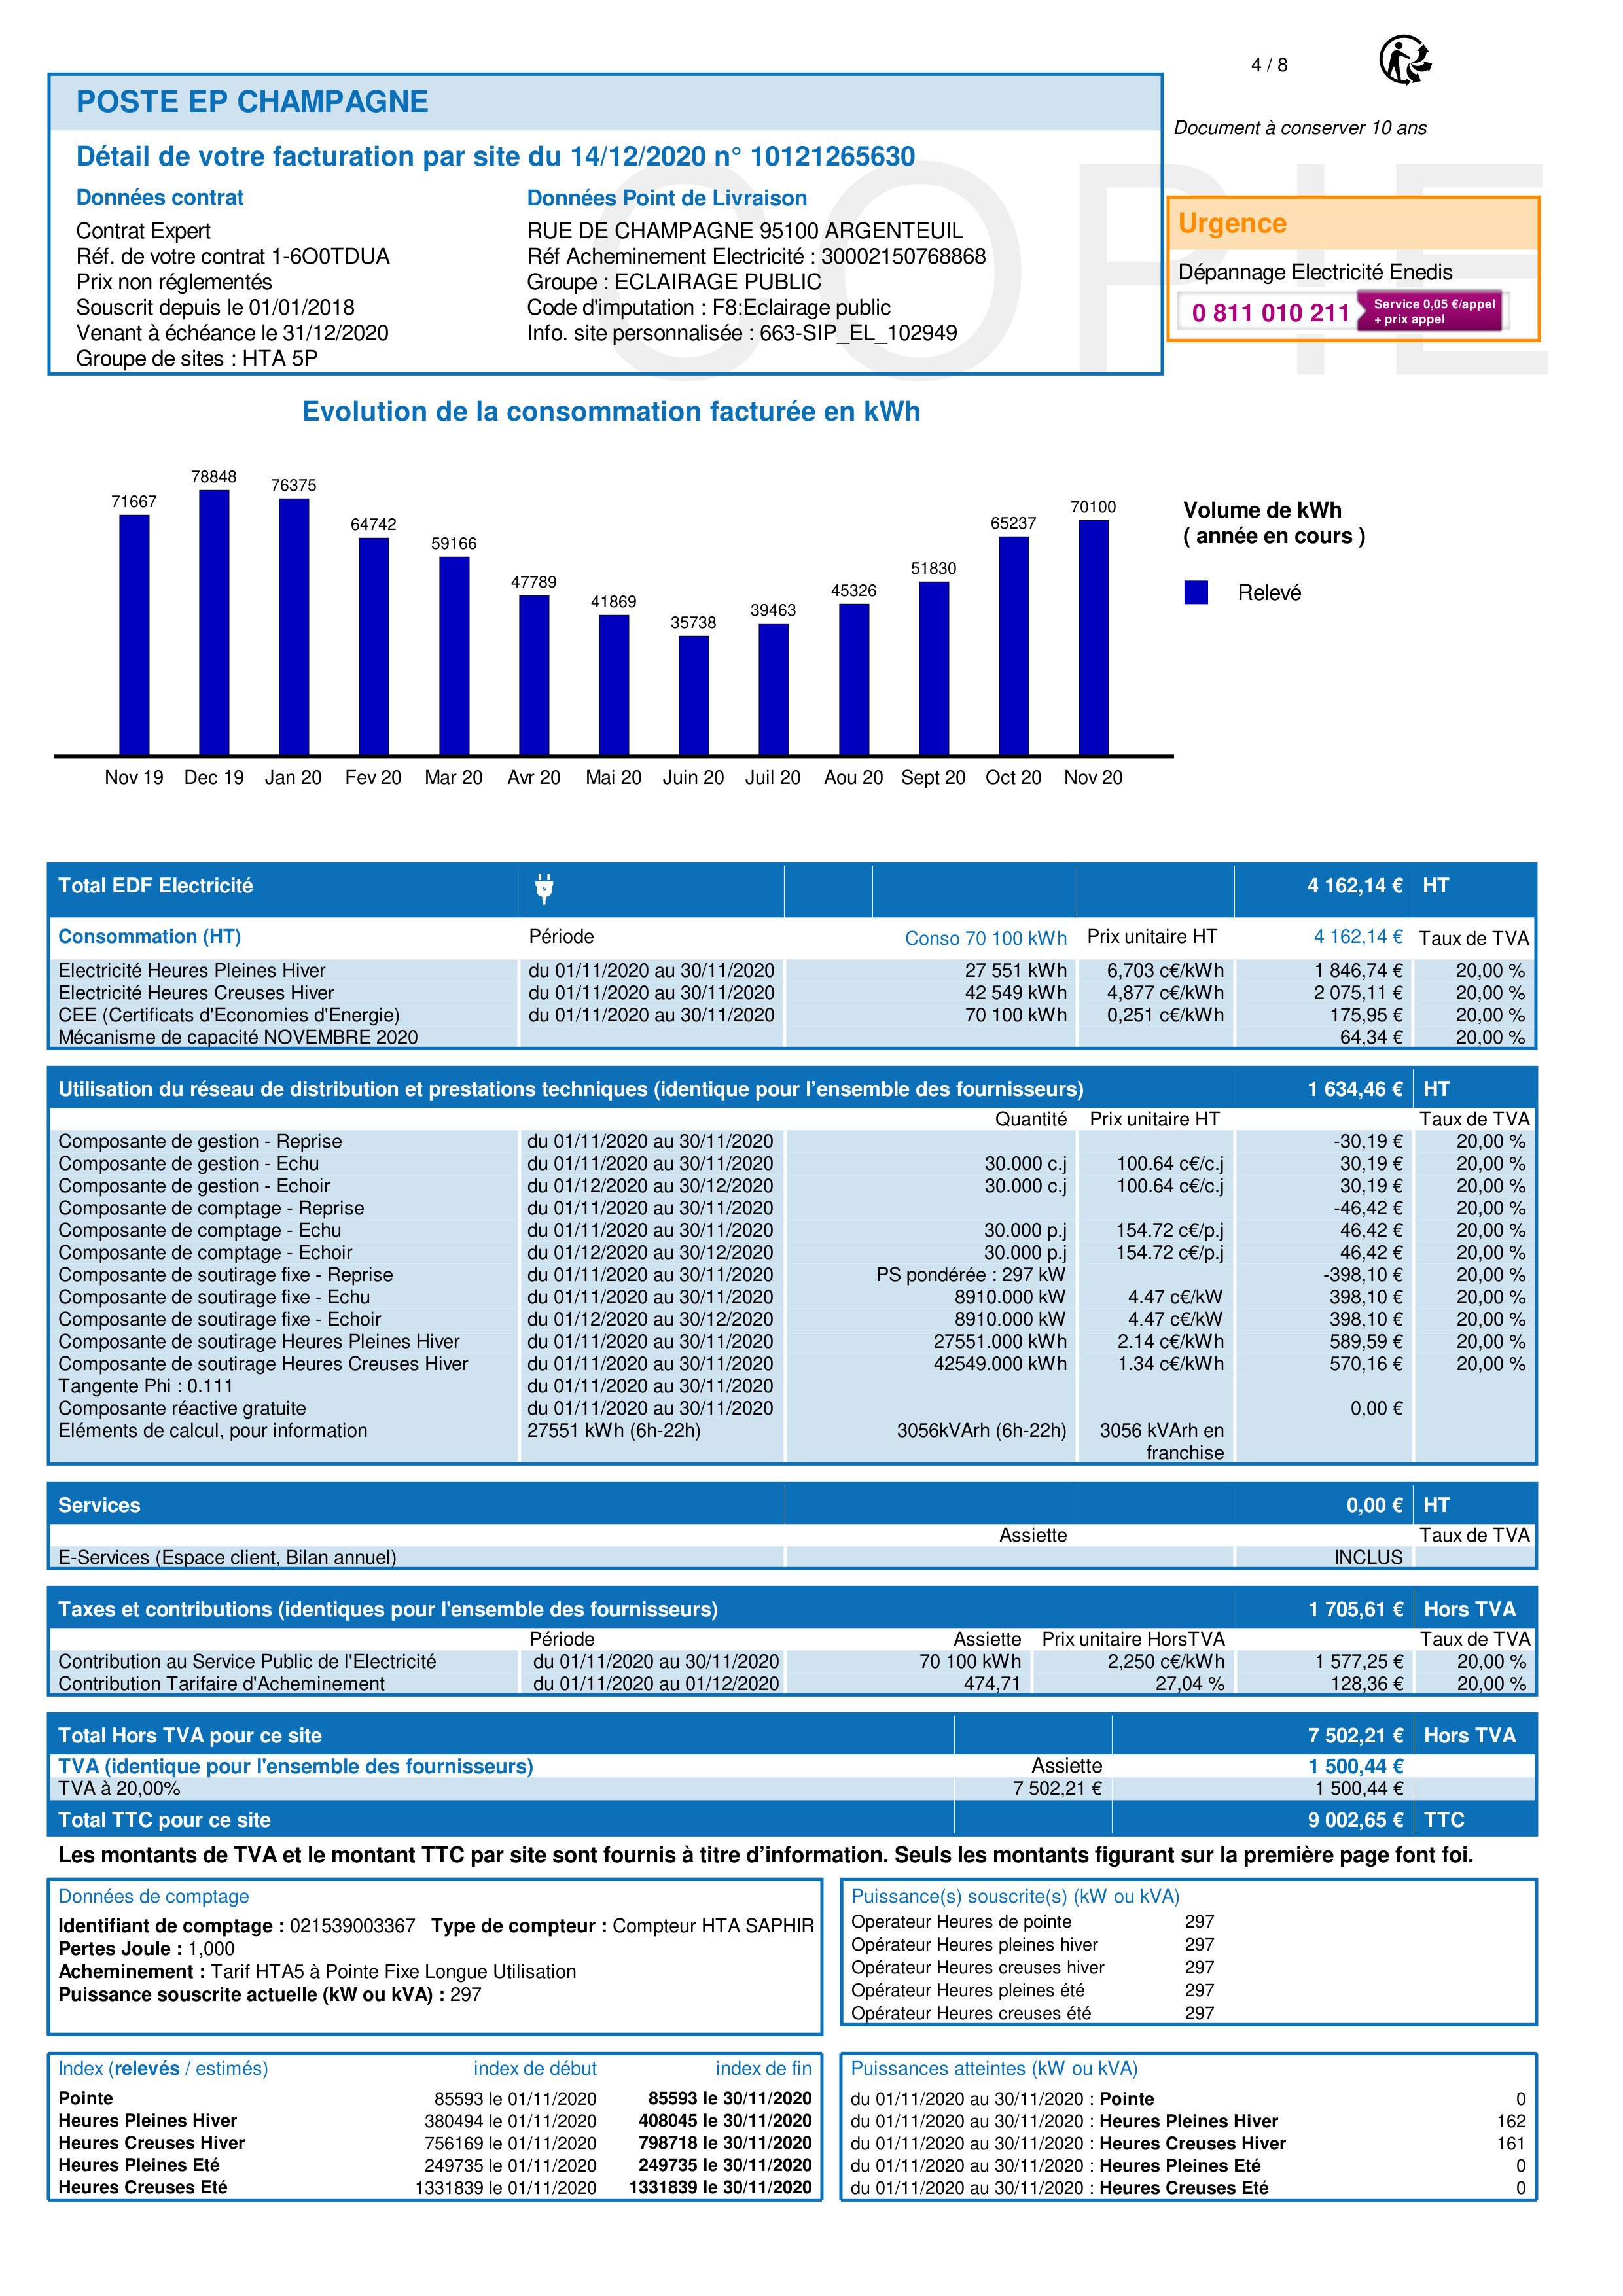area: (46, 2052, 824, 2203)
type_indicator: (46, 2052, 276, 2085)
